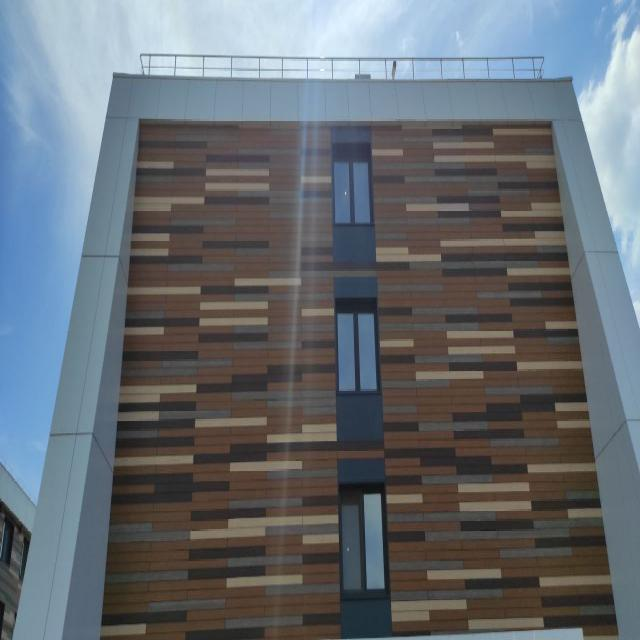Building: (15, 75, 640, 640)
